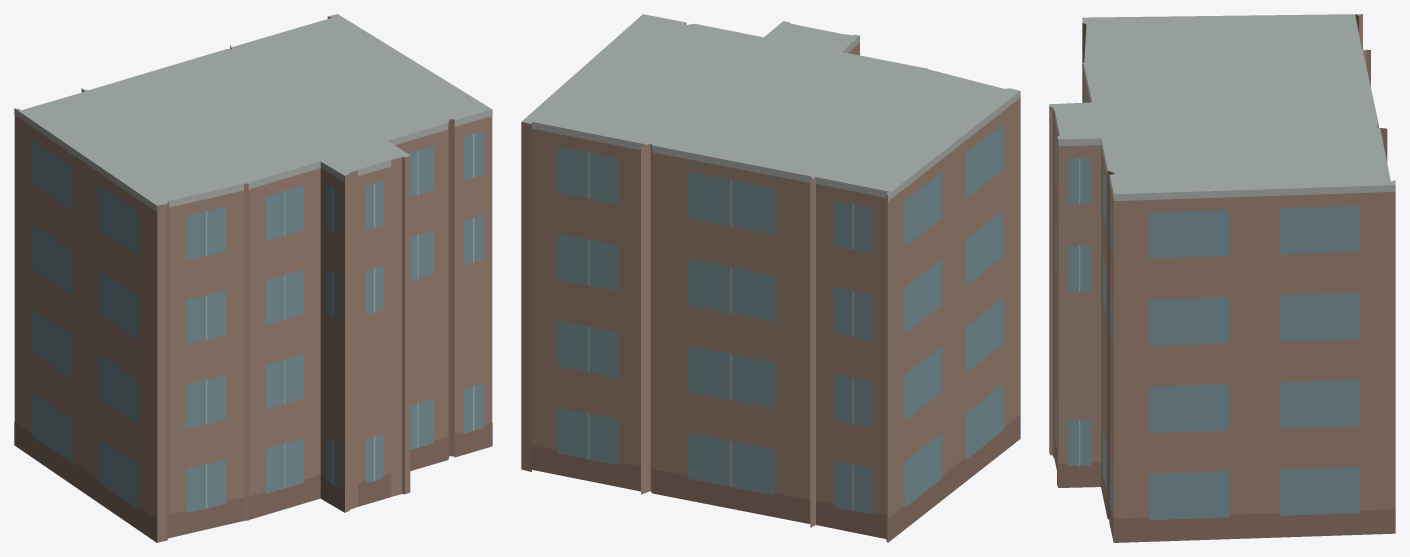
Rendered from survey-upis-32810098.glb.
3 renders of one model, left to right at view 1: azimuth 30°, elevation 25°; view 2: azimuth 150°, elevation 25°; view 3: azimuth 270°, elevation 25°, orthographic. The views are drawn at different scales.
Parts seen in each view (by area): view 1: survey-upis-32810098.tmp; view 2: survey-upis-32810098.tmp; view 3: survey-upis-32810098.tmp.
Part boxes in pixels (bbox=[...]): survey-upis-32810098.tmp: bbox=[14, 14, 492, 542]; survey-upis-32810098.tmp: bbox=[521, 14, 1020, 542]; survey-upis-32810098.tmp: bbox=[1049, 14, 1395, 542].
Size of the model in its own units: 13.94 by 12.55 by 11.31.
